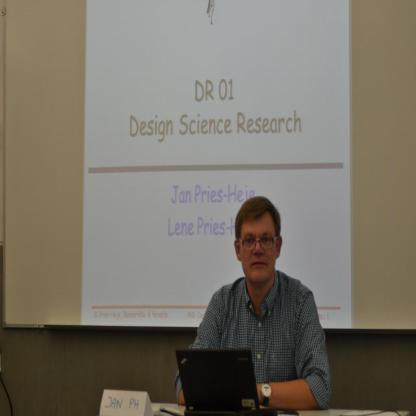board: (175, 347, 277, 416)
